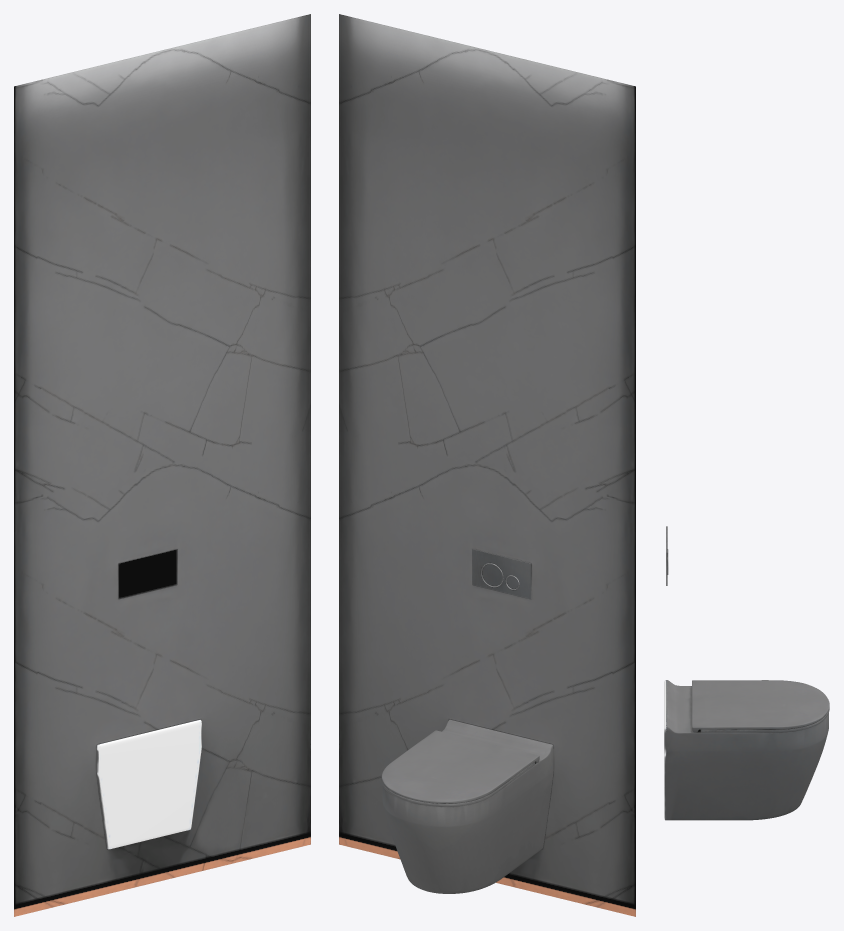
File: Margo_R_final.glb
3 views of the same model, side by side, from view 1: azimuth 30°, elevation 25°; view 2: azimuth 150°, elevation 25°; view 3: azimuth 270°, elevation 25° (orthographic). The views are drawn at different scales.
Visible parts, largest first — view 1: Margo_R_final; view 2: Margo_R_final; view 3: Margo_R_final.
Part boxes in pixels (x1,y1,x2,y2): Margo_R_final: (14, 14, 310, 916); Margo_R_final: (339, 14, 635, 916); Margo_R_final: (664, 526, 829, 820).
Size of the model in its own units: 3.68 by 9.85 by 1.92.
Materials: 1 (1 with a texture image).
